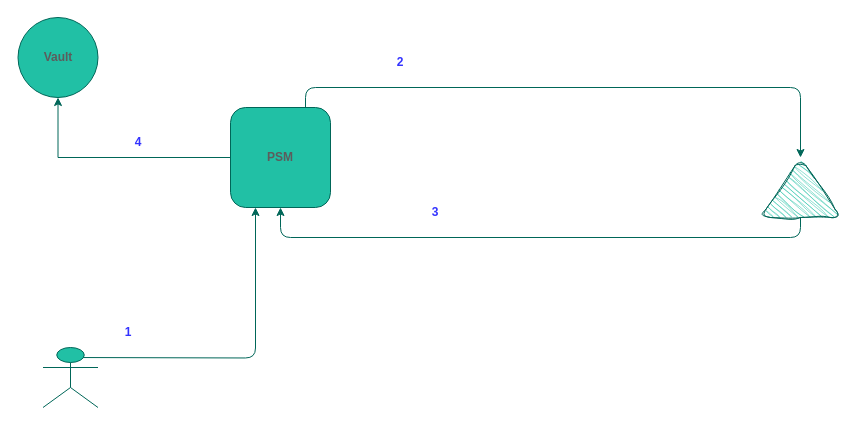
The diagram is 858 pixels wide and 446 high, and some of its shapes have lost their labels. The centre of each missing label's shape, as x and y in pixels:
Actor: the point at 70,377
IDP: the point at 800,187
